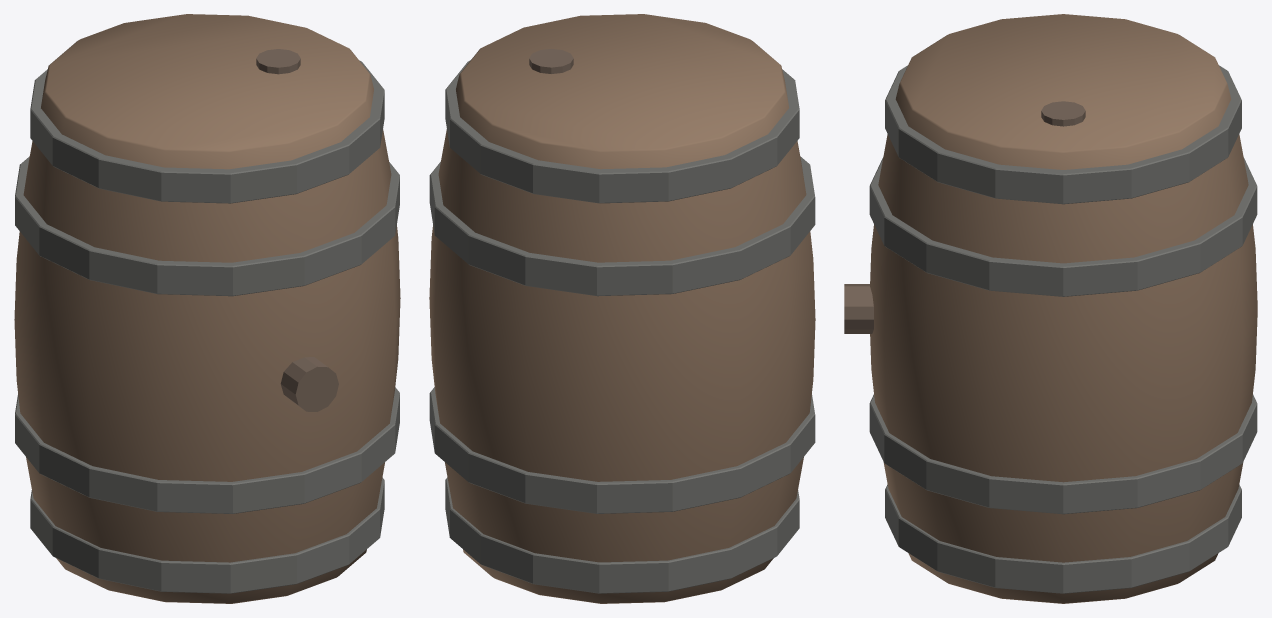
File: 酒桶-barrel.glb
The picture shows the model from 3 angles, left to right: view 1: azimuth 30°, elevation 25°; view 2: azimuth 150°, elevation 25°; view 3: azimuth 270°, elevation 25°; orthographic projection.
Visible parts, largest first — view 1: BarrelBody, Hoop_2, Hoop_3, Hoop_1, Hoop_0, BungSide, BungTop; view 2: BarrelBody, Hoop_2, Hoop_3, Hoop_1, Hoop_0, BungTop; view 3: BarrelBody, Hoop_2, Hoop_3, Hoop_1, Hoop_0, BungSide, BungTop.
Part boxes in pixels (x1=…): BarrelBody: x1=14, y1=14, x2=400, y2=603; Hoop_2: x1=15, y1=156, x2=399, y2=296; Hoop_3: x1=30, y1=60, x2=384, y2=203; Hoop_1: x1=15, y1=387, x2=399, y2=513; Hoop_0: x1=30, y1=477, x2=384, y2=593; BungSide: x1=280, y1=357, x2=338, y2=411; BungTop: x1=256, y1=49, x2=300, y2=74; BarrelBody: x1=429, y1=14, x2=815, y2=603; Hoop_2: x1=429, y1=156, x2=815, y2=296; Hoop_3: x1=445, y1=60, x2=799, y2=203; Hoop_1: x1=429, y1=387, x2=815, y2=513; Hoop_0: x1=445, y1=477, x2=799, y2=593; BungTop: x1=529, y1=49, x2=573, y2=73; BarrelBody: x1=870, y1=14, x2=1257, y2=603; Hoop_2: x1=869, y1=157, x2=1257, y2=296; Hoop_3: x1=885, y1=65, x2=1241, y2=204; Hoop_1: x1=869, y1=394, x2=1257, y2=514; Hoop_0: x1=885, y1=484, x2=1241, y2=593; BungSide: x1=844, y1=284, x2=873, y2=333; BungTop: x1=1041, y1=101, x2=1085, y2=126.
Size of the model in its own units: 1.53 by 2 by 1.63.
